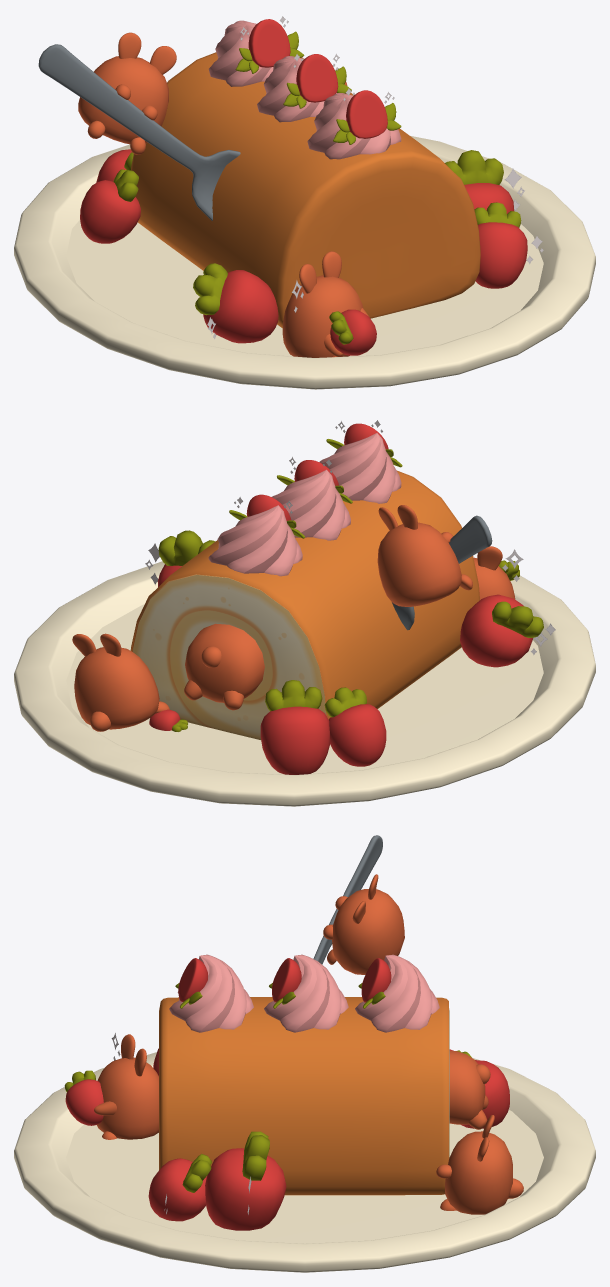
The model's file is RollCake.fbx.
3 views of the same model, one above another, from view 1: azimuth 30°, elevation 25°; view 2: azimuth 150°, elevation 25°; view 3: azimuth 270°, elevation 25° (orthographic). The views are drawn at different scales.
Parts seen in each view (by area): view 1: Plate, Roll_cake, Spoon, Bony.012, Bony.010, Berry.013, Berry, Berry.014, Meringue, Berry.001, Meringue.001, Meringue.002 (+5 smaller); view 2: Plate, Roll_cake, Bony.006, Bony.012, Berry.015, Bony.011, Berry.013, Meringue.002, Berry.014, Meringue, Meringue.001, Spoon (+6 smaller); view 3: Plate, Roll_cake, Berry.001, Bony.006, Bony.012, Bony.010, Meringue.002, Meringue.001, Meringue, Berry, Bony.011, Berry.012 (+5 smaller).
Part boxes in pixels (x1,y1,x2,y2): Plate: [14, 136, 595, 389]; Roll_cake: [131, 52, 480, 327]; Spoon: [38, 44, 240, 220]; Bony.012: [78, 32, 176, 154]; Bony.010: [282, 251, 368, 357]; Berry.013: [193, 263, 278, 343]; Berry: [474, 202, 527, 288]; Berry.014: [80, 169, 140, 243]; Meringue: [307, 93, 401, 159]; Berry.001: [445, 150, 514, 213]; Meringue.001: [257, 56, 346, 122]; Meringue.002: [208, 20, 273, 86]; Plate: [14, 561, 595, 806]; Roll_cake: [130, 470, 479, 739]; Bony.006: [72, 633, 169, 731]; Bony.012: [377, 505, 472, 606]; Berry.015: [260, 680, 330, 774]; Bony.011: [184, 623, 264, 710]; Berry.013: [460, 594, 543, 667]; Meringue.002: [208, 505, 302, 576]; Berry.014: [324, 687, 386, 766]; Meringue: [319, 433, 401, 503]; Meringue.001: [272, 469, 350, 540]; Spoon: [392, 515, 492, 630]; Plate: [14, 1052, 595, 1272]; Roll_cake: [159, 997, 449, 1195]; Berry.001: [205, 1131, 286, 1230]; Bony.006: [436, 1115, 523, 1214]; Bony.012: [323, 874, 404, 974]; Bony.010: [94, 1034, 158, 1139]; Meringue.002: [355, 954, 439, 1032]; Meringue.001: [264, 954, 348, 1032]; Meringue: [169, 954, 253, 1032]; Berry: [148, 1154, 212, 1221]; Bony.011: [449, 1050, 490, 1129]; Berry.012: [64, 1070, 103, 1125].
Bounding box in the file's own units: 281 × 148 × 305.
